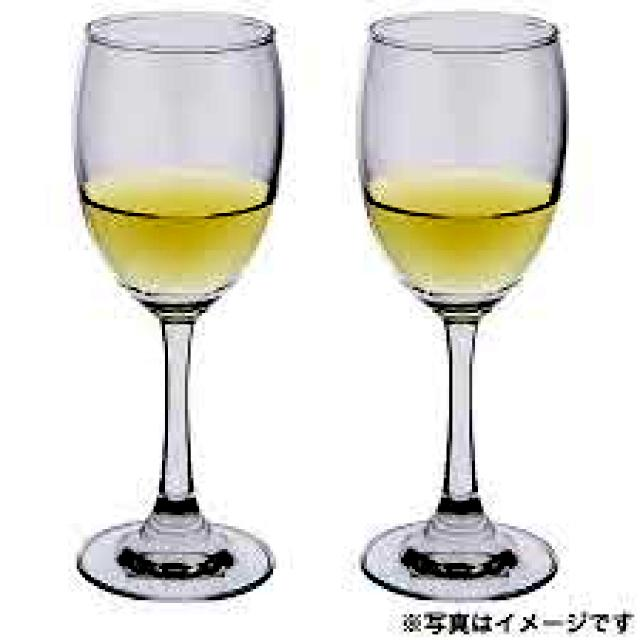Glass: (70, 5, 291, 606), (361, 11, 569, 602)
